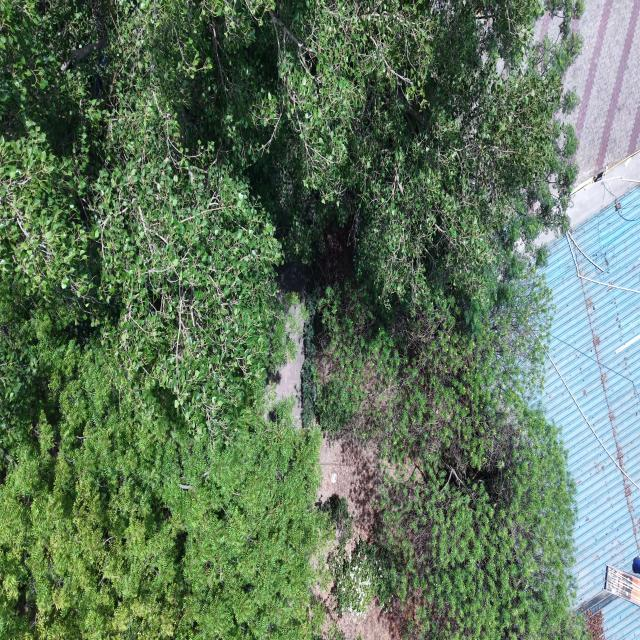DRY_AREA: (563, 0, 639, 228), (564, 0, 639, 227), (564, 0, 639, 183), (318, 434, 382, 551), (318, 434, 382, 548), (319, 434, 381, 539), (273, 263, 308, 424), (274, 298, 304, 426), (337, 603, 404, 639)
ROOFTOP_BUILDING: (542, 189, 639, 639)
VEGETATION_TREE: (0, 0, 581, 639), (0, 3, 324, 638), (0, 313, 322, 638), (252, 0, 579, 319), (316, 273, 581, 638)
